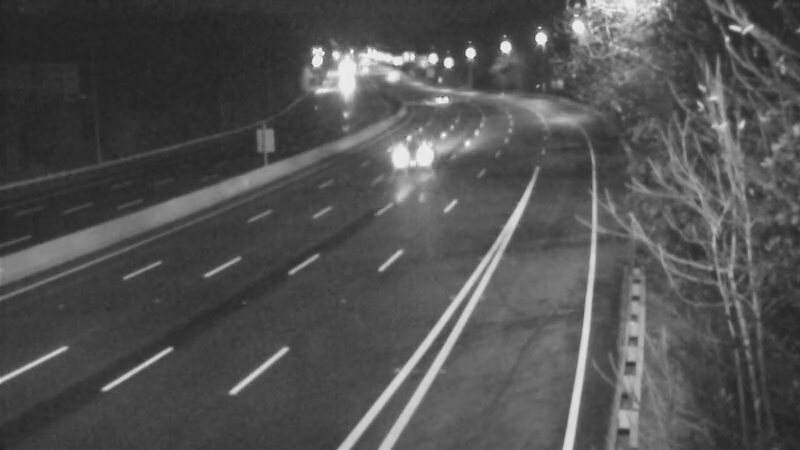vehicle: (385, 112, 465, 192), (409, 71, 459, 121)
